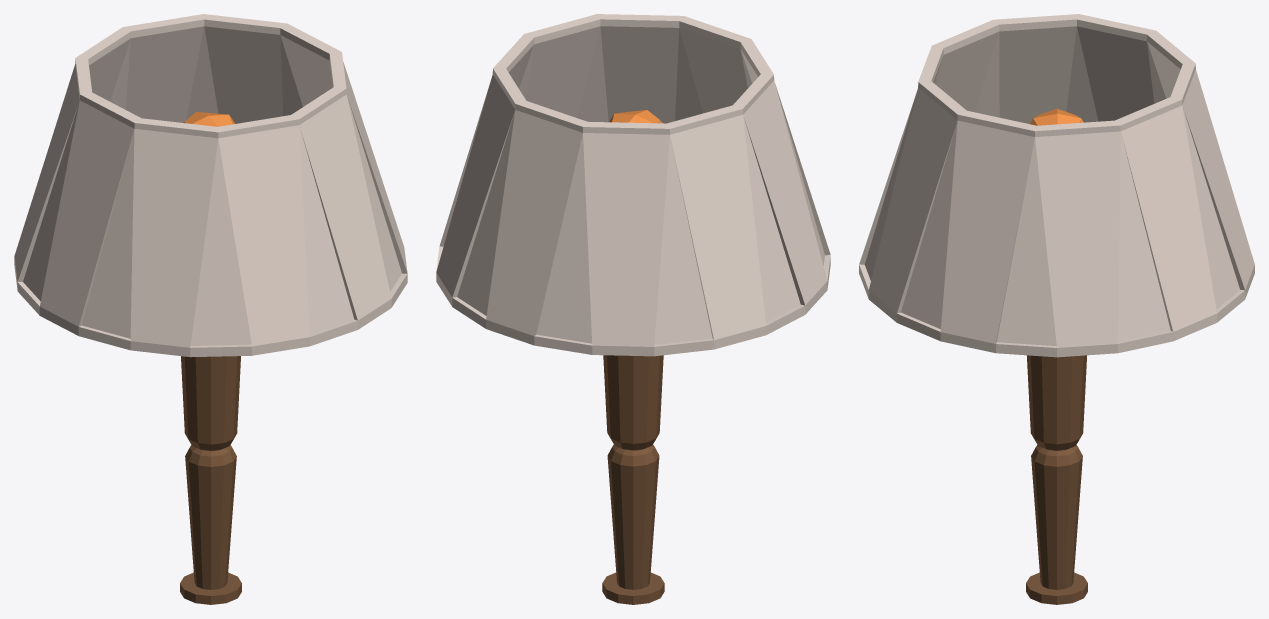
The model's file is Lamp_1.fbx.
3 renders of one model, left to right at view 1: azimuth 30°, elevation 25°; view 2: azimuth 150°, elevation 25°; view 3: azimuth 270°, elevation 25°, orthographic.
Parts seen in each view (by area): view 1: Lamp_1; view 2: Lamp_1; view 3: Lamp_1.
Boxes of the visible parts, x1=… form: Lamp_1: x1=14, y1=14, x2=407, y2=604; Lamp_1: x1=436, y1=14, x2=830, y2=604; Lamp_1: x1=859, y1=14, x2=1254, y2=604.
Bounding box in the file's own units: 45.25 × 45.25 × 65.51.
